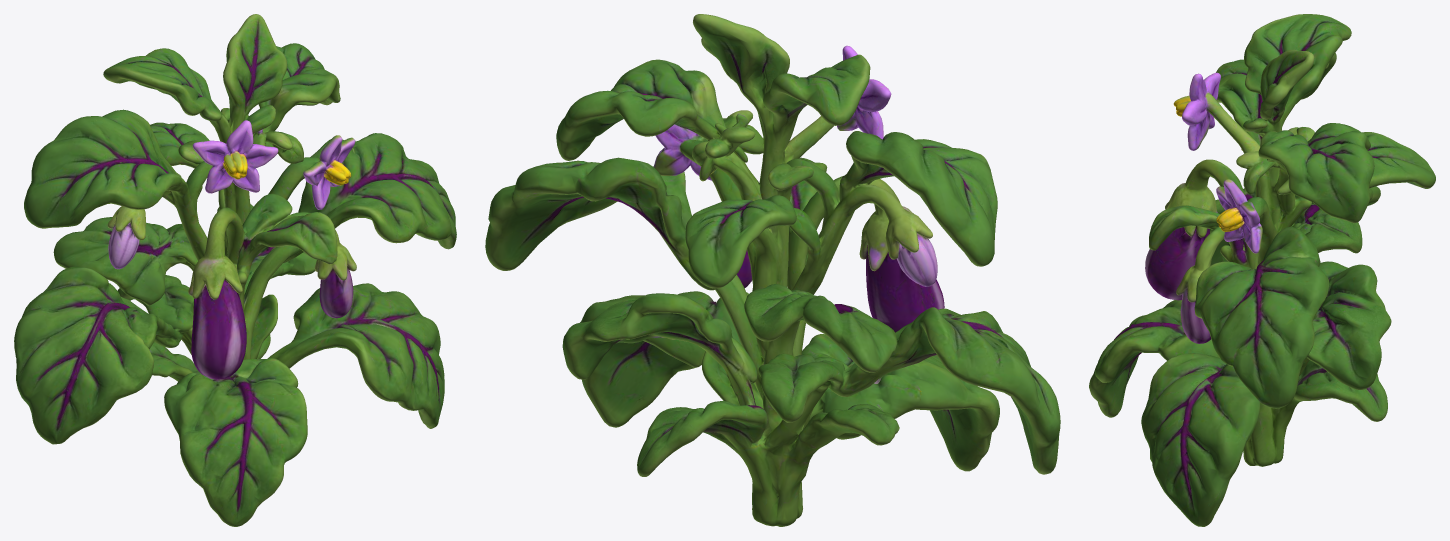
Rendered from eggplant-growing.glb.
3 renders of one model, left to right at view 1: azimuth 30°, elevation 25°; view 2: azimuth 150°, elevation 25°; view 3: azimuth 270°, elevation 25°, orthographic. The views are drawn at different scales.
Bounding box in the file's own units: 1.9 × 1.69 × 1.25.
Materials: 1 (1 with a texture image).
